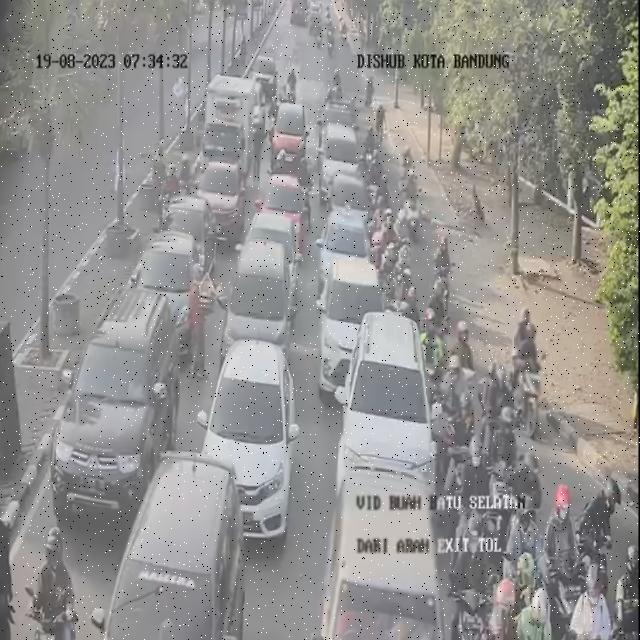bunch of motorcycle: (449, 503, 637, 638)
cars: (59, 286, 180, 520), (92, 458, 242, 640), (339, 303, 440, 516), (199, 336, 299, 544), (324, 472, 444, 638), (318, 251, 386, 390), (223, 230, 296, 356), (137, 228, 199, 354), (250, 210, 304, 298), (321, 206, 370, 298), (197, 159, 243, 236), (328, 167, 370, 247), (260, 174, 308, 241), (319, 122, 358, 198), (274, 100, 311, 176), (322, 92, 359, 144), (252, 53, 279, 109)
motorcycle: (512, 442, 545, 598), (35, 524, 77, 640), (543, 481, 577, 614), (447, 374, 480, 497), (514, 306, 546, 431), (491, 409, 521, 502), (452, 319, 473, 420), (484, 360, 514, 430), (430, 235, 453, 322), (391, 252, 414, 321), (426, 321, 447, 395), (376, 210, 398, 266), (393, 142, 413, 196), (160, 162, 180, 216), (176, 151, 195, 203), (364, 145, 382, 199), (368, 182, 387, 232), (400, 184, 419, 232), (283, 60, 296, 106), (324, 27, 338, 62), (310, 18, 321, 43)
truck: (205, 78, 265, 185)
